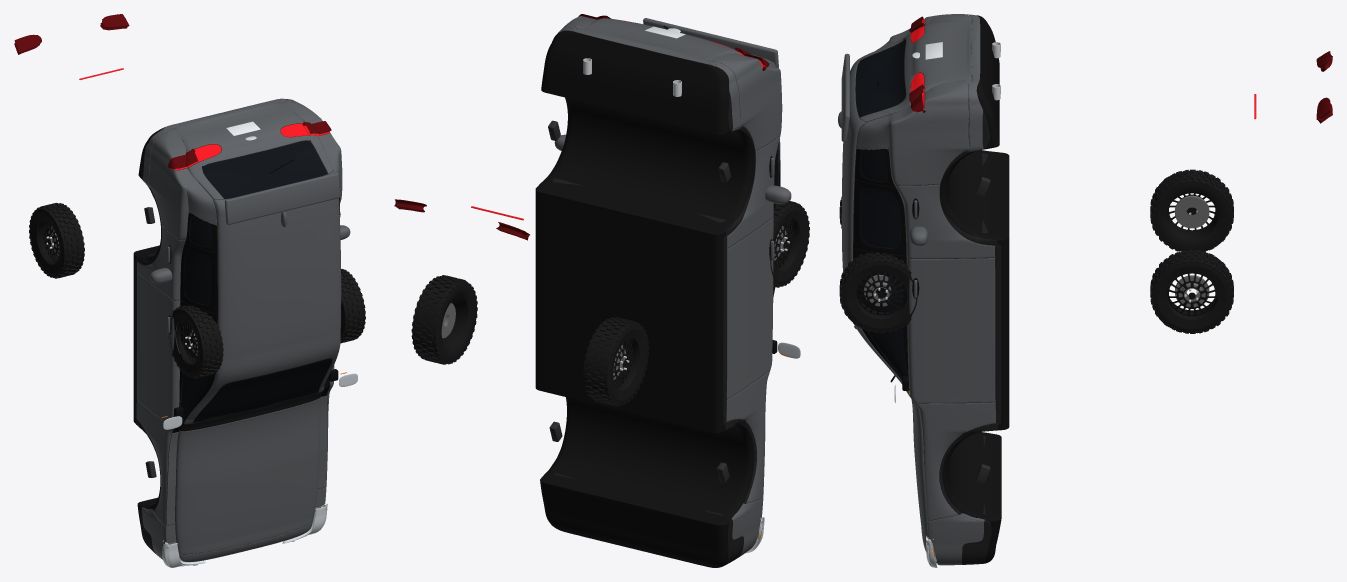
File: RAV4_2023_LE.fbx
3 renders of one model, left to right at view 1: azimuth 30°, elevation 25°; view 2: azimuth 150°, elevation 25°; view 3: azimuth 270°, elevation 25°, orthographic. The views are drawn at different scales.
Parts seen in each view (by area): view 1: Roof, Hood, Door_FR, Liftgate, Quarter_R, Liftgate_Glass, Windshield, Roof_Spoiler, Door_RR, Bumper_Front, Wheel_RR_Tire, Fender_R (+16 smaller); view 2: Underbody, Door_FR, Quarter_R, Wheel_RR_Tire, Wheel_RL_Tire, Liftgate, Fender_R, Door_RR, Wheel_RL_Tread, Wheel_RR_Tread, Bumper_Rear, Bumper_Front (+7 smaller); view 3: Underbody, Door_FL, Quarter_L, Door_RL, Liftgate, Fender_L, Wheel_RL_Tire, Wheel_RR_Tire, Liftgate_Glass, Bumper_Front, Roof, Wheel_FL_Tire (+14 smaller).
Boxes of the visible parts, <box> form: Roof: <box>184,170,341,423</box>; Hood: <box>175,397,320,553</box>; Door_FR: <box>137,273,217,433</box>; Liftgate: <box>173,102,333,199</box>; Quarter_R: <box>148,128,217,252</box>; Liftgate_Glass: <box>202,140,327,199</box>; Windshield: <box>193,358,332,422</box>; Roof_Spoiler: <box>224,173,340,224</box>; Door_RR: <box>137,226,217,313</box>; Bumper_Front: <box>139,487,326,561</box>; Wheel_RR_Tire: <box>29,205,84,276</box>; Fender_R: <box>136,400,174,525</box>; Underbody: <box>535,30,755,567</box>; Door_FR: <box>726,203,776,399</box>; Quarter_R: <box>710,53,782,150</box>; Wheel_RR_Tire: <box>583,320,648,404</box>; Wheel_RL_Tire: <box>412,277,476,362</box>; Liftgate: <box>582,18,771,63</box>; Fender_R: <box>726,371,769,503</box>; Door_RR: <box>727,136,780,248</box>; Wheel_RL_Tread: <box>411,275,477,364</box>; Wheel_RR_Tread: <box>583,317,649,406</box>; Bumper_Rear: <box>558,26,742,131</box>; Bumper_Front: <box>544,474,763,564</box>; Underbody: <box>940,15,1009,563</box>; Door_FL: <box>853,248,995,403</box>; Quarter_L: <box>855,79,971,186</box>; Door_RL: <box>853,179,995,258</box>; Liftgate: <box>860,19,971,121</box>; Fender_L: <box>914,402,996,520</box>; Wheel_RL_Tire: <box>1152,250,1232,333</box>; Wheel_RR_Tire: <box>1152,170,1231,251</box>; Liftgate_Glass: <box>856,38,905,117</box>; Bumper_Front: <box>923,513,991,565</box>; Roof: <box>841,57,909,394</box>; Wheel_FL_Tire: <box>841,252,917,332</box>.
Size of the model in its own units: 2.24 by 4.63 by 4.28.
